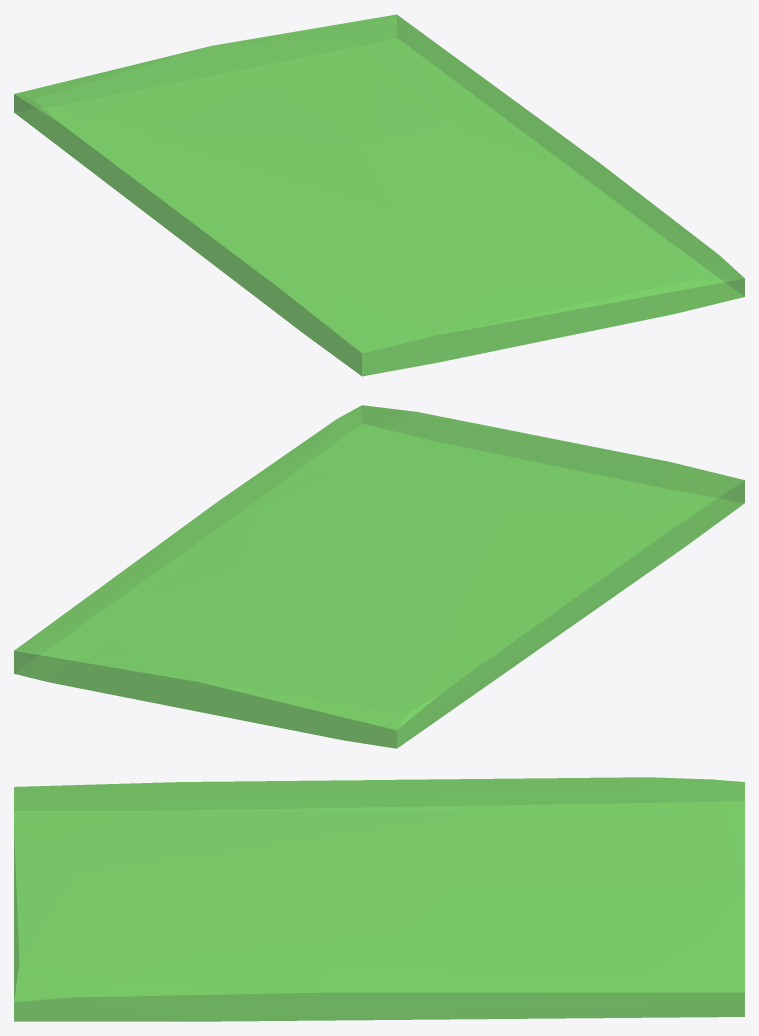
The picture shows the model from 3 angles, top to bottom: view 1: azimuth 30°, elevation 25°; view 2: azimuth 150°, elevation 25°; view 3: azimuth 270°, elevation 25°; orthographic projection. The views are drawn at different scales.
Visible parts, largest first — view 1: Shape_IndexedFaceSet.014_Shape_IndexedFaceSet.5890; view 2: Shape_IndexedFaceSet.014_Shape_IndexedFaceSet.5890; view 3: Shape_IndexedFaceSet.014_Shape_IndexedFaceSet.5890.
Boxes of the visible parts, bbox=[...] form: Shape_IndexedFaceSet.014_Shape_IndexedFaceSet.5890: bbox=[14, 14, 744, 376]; Shape_IndexedFaceSet.014_Shape_IndexedFaceSet.5890: bbox=[14, 405, 744, 748]; Shape_IndexedFaceSet.014_Shape_IndexedFaceSet.5890: bbox=[14, 777, 744, 1021].
Size of the model in its own units: 0.2368 by 0.0272 by 0.3729.
